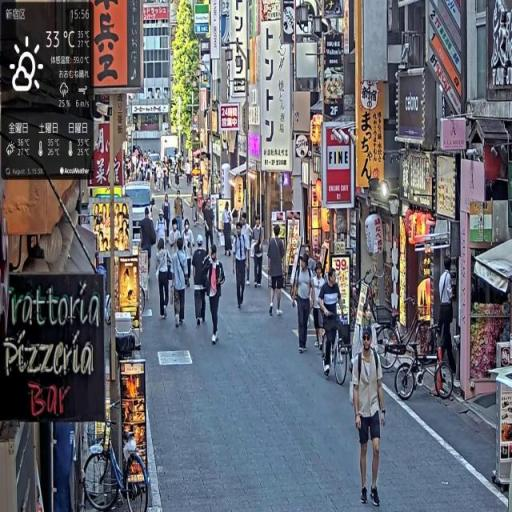person: (352, 323, 388, 510), (319, 265, 344, 382), (438, 256, 458, 392), (292, 252, 315, 355), (205, 244, 227, 347), (268, 224, 288, 320), (232, 217, 252, 311), (171, 238, 190, 330), (192, 237, 210, 331), (310, 261, 327, 352), (140, 206, 158, 285), (156, 236, 173, 318), (251, 215, 265, 290), (221, 201, 234, 260)
